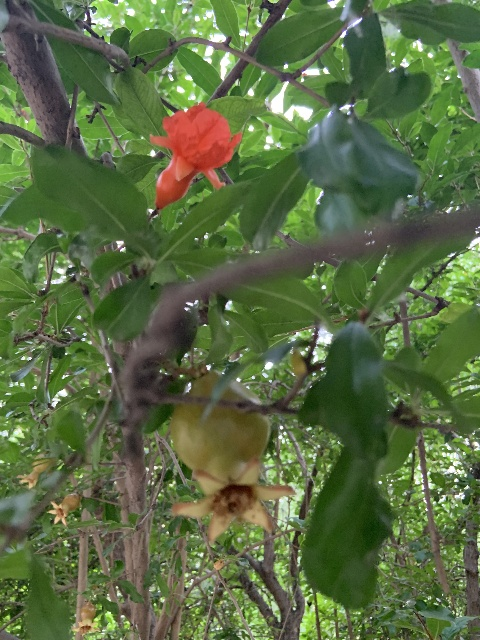early-fruit: (46, 492, 81, 526), (70, 600, 99, 637)
flower: (149, 102, 243, 209)
mid-growth: (168, 374, 295, 544), (16, 453, 55, 489)
